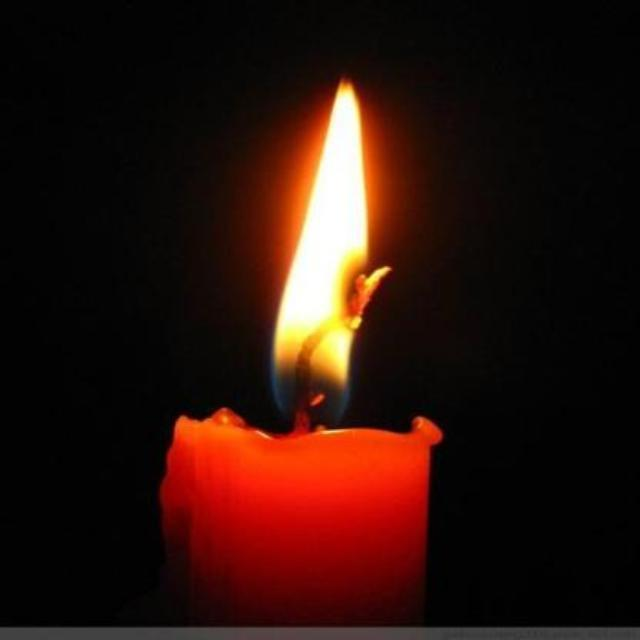Fire: (272, 78, 370, 420)
